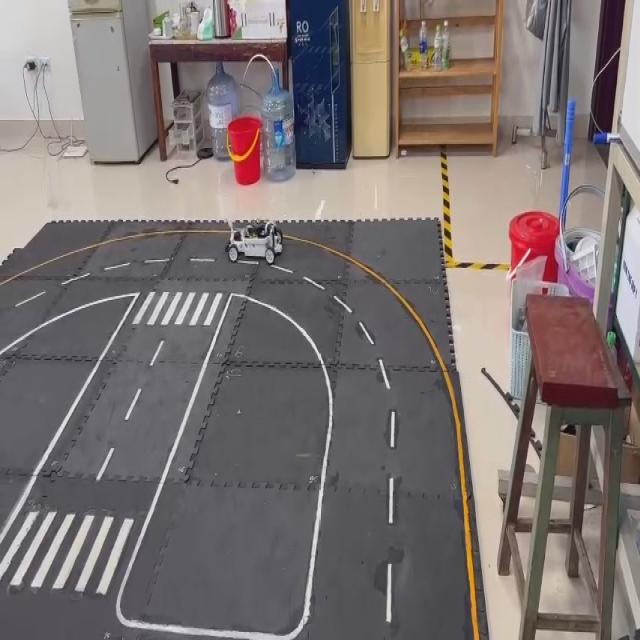SiCo-CAR: (224, 218, 283, 266)
